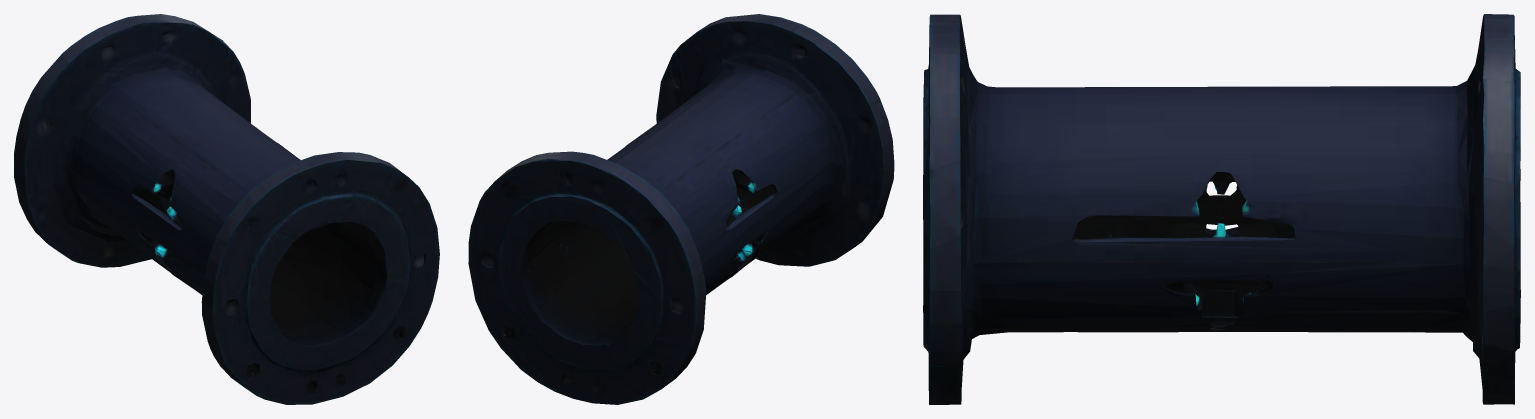
Rendered from cano.glb.
The picture shows the model from 3 angles, left to right: view 1: azimuth 30°, elevation 25°; view 2: azimuth 150°, elevation 25°; view 3: azimuth 270°, elevation 25°; orthographic projection. The views are drawn at different scales.
Bounding box in the file's own units: 0.6472 × 0.6484 × 1.
Materials: 1 (1 with a texture image).
